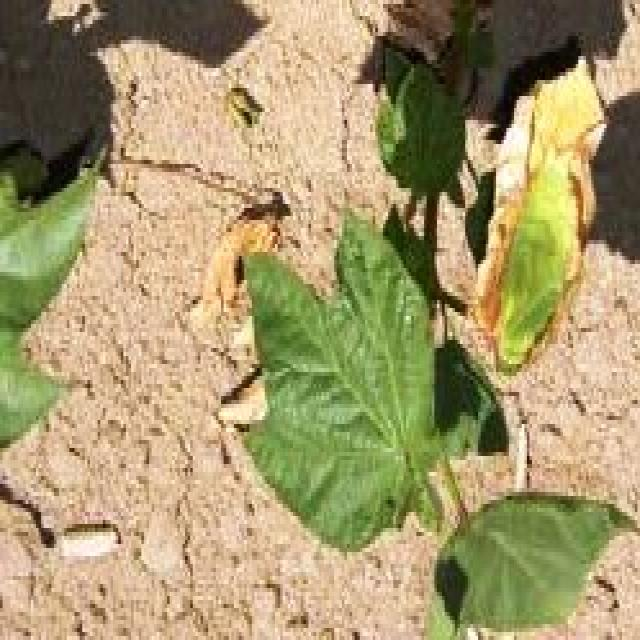Fusarium Wilt: (225, 47, 619, 640)
